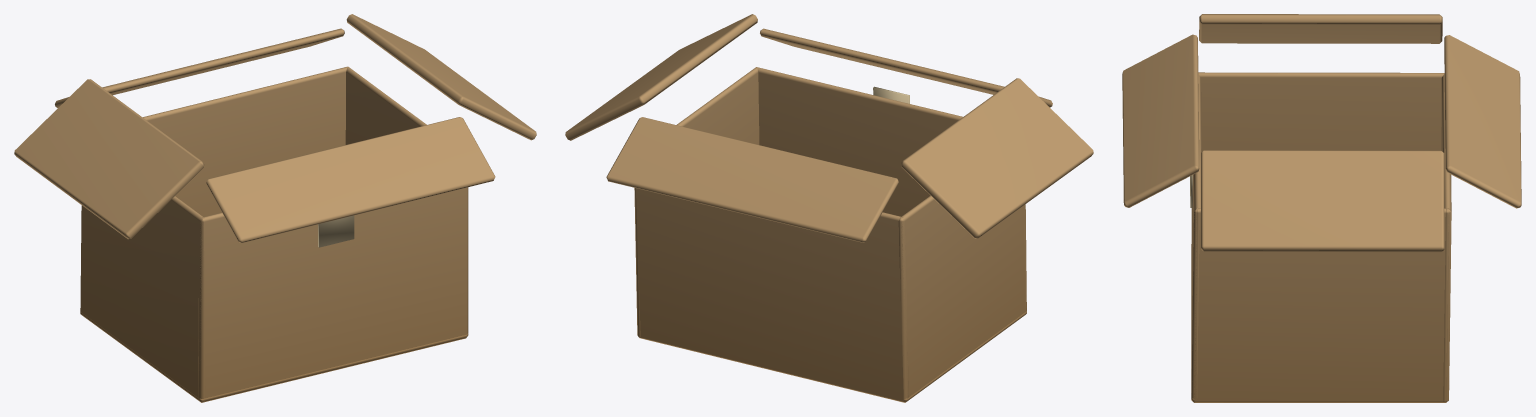
File: cardboard_box.glb
The picture shows the model from 3 angles, left to right: view 1: azimuth 30°, elevation 25°; view 2: azimuth 150°, elevation 25°; view 3: azimuth 270°, elevation 25°; orthographic projection. The views are drawn at different scales.
Visible parts, largest first — view 1: cardboard_box; view 2: cardboard_box; view 3: cardboard_box.
Boxes of the visible parts, x1,y1,x2,y2 form: cardboard_box: (14, 14, 536, 402); cardboard_box: (565, 14, 1093, 402); cardboard_box: (1122, 14, 1521, 402).
Bounding box in the file's own units: 0.7064 × 0.3897 × 0.5581.
